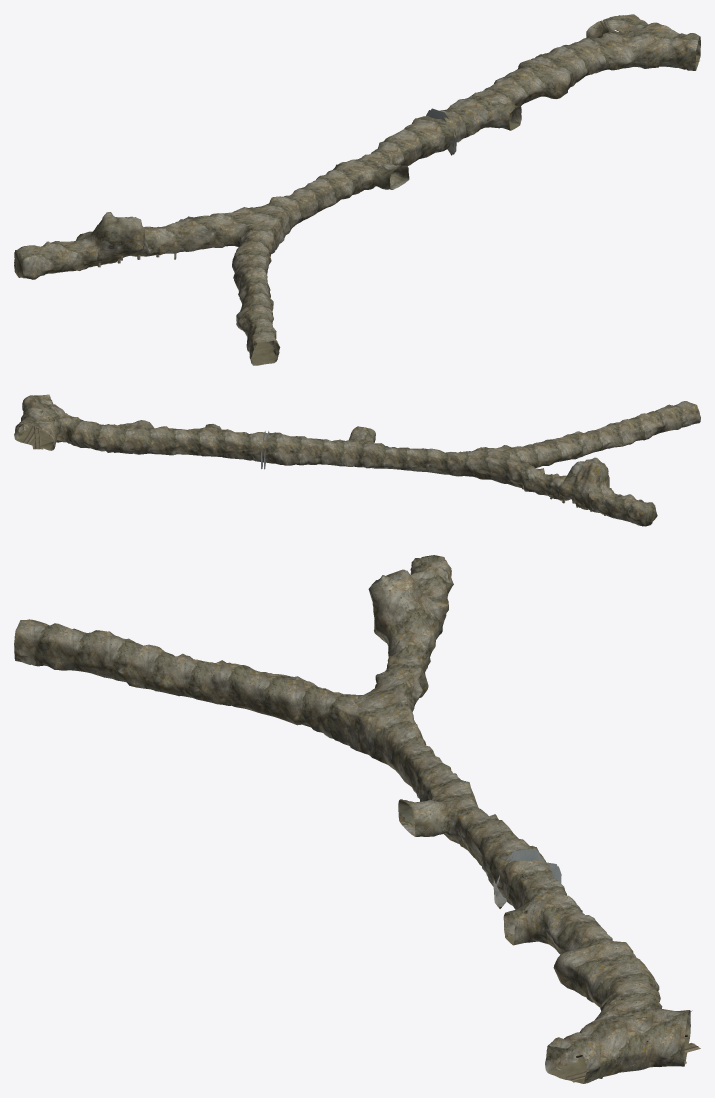
File: Edgar_Section_05.DAE
3 renders of one model, top to bottom at view 1: azimuth 30°, elevation 25°; view 2: azimuth 150°, elevation 25°; view 3: azimuth 270°, elevation 25°, orthographic. The views are drawn at different scales.
Visible parts, largest first — view 1: Section_05_Walls, Section_05_Ground; view 2: Section_05_Walls, Section_05_Ground, Section_05_Rails; view 3: Section_05_Walls.
Boxes of the visible parts, x1,y1,x2,y2 form: Section_05_Walls: (14,14,700,364); Section_05_Ground: (59,55,700,365); Section_05_Walls: (14,394,700,526); Section_05_Ground: (15,420,639,512); Section_05_Rails: (21,425,47,449); Section_05_Walls: (14,555,690,1083).
Size of the model in its own units: 8284 by 643 by 4820.
Materials: 8 (8 with a texture image).
